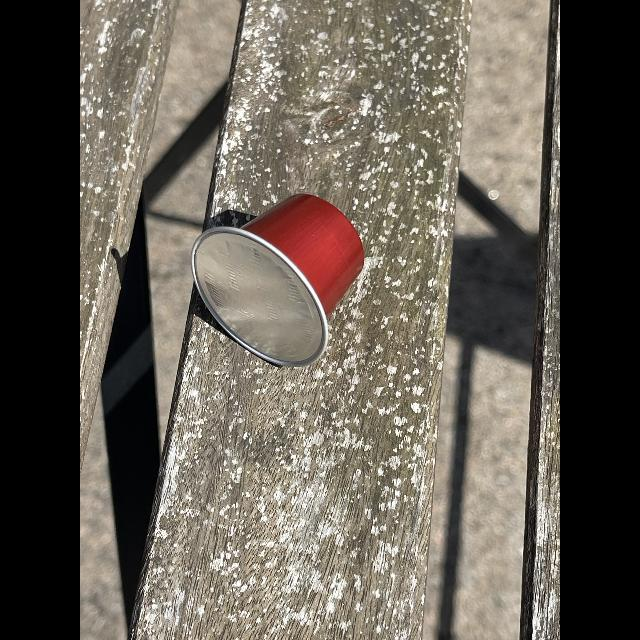intact_capsule: (184, 184, 372, 376)
